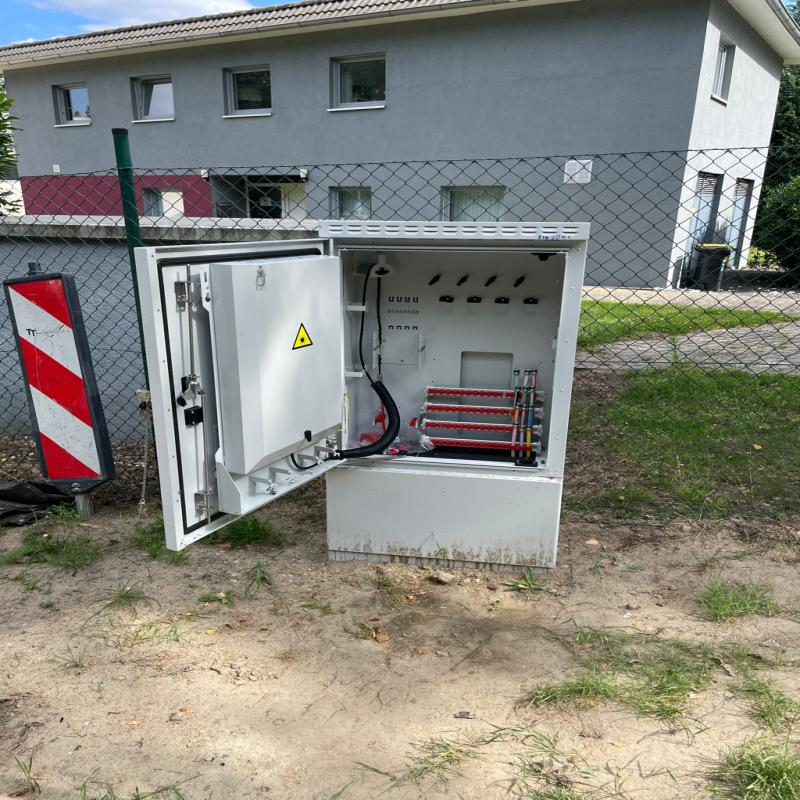NT-Gehause: (133, 222, 590, 572)
